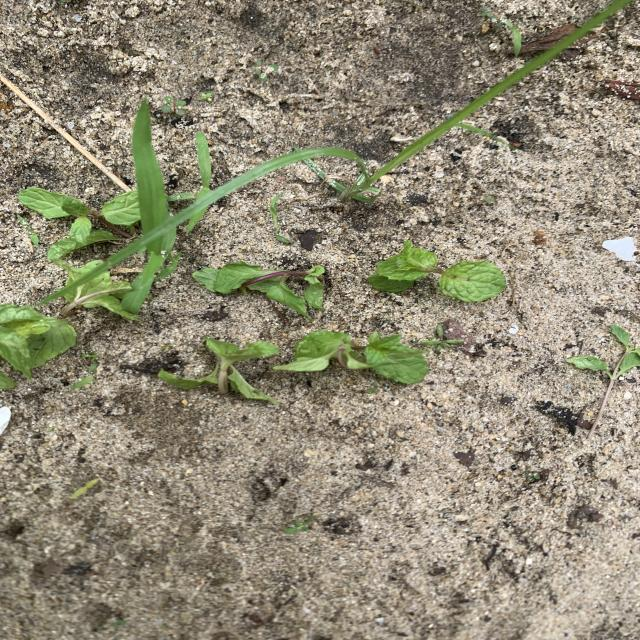crop: (367, 241, 506, 302), (18, 187, 139, 256), (274, 330, 428, 384), (158, 338, 279, 405), (573, 324, 640, 439), (192, 262, 325, 316), (0, 304, 71, 379), (62, 271, 137, 320)
weed: (40, 0, 632, 305), (121, 229, 179, 313), (483, 11, 522, 57), (269, 195, 294, 245), (195, 132, 211, 199), (421, 324, 455, 355), (154, 96, 191, 118), (17, 214, 40, 247), (70, 478, 98, 499), (254, 64, 279, 82), (285, 519, 306, 534), (199, 93, 212, 102)
